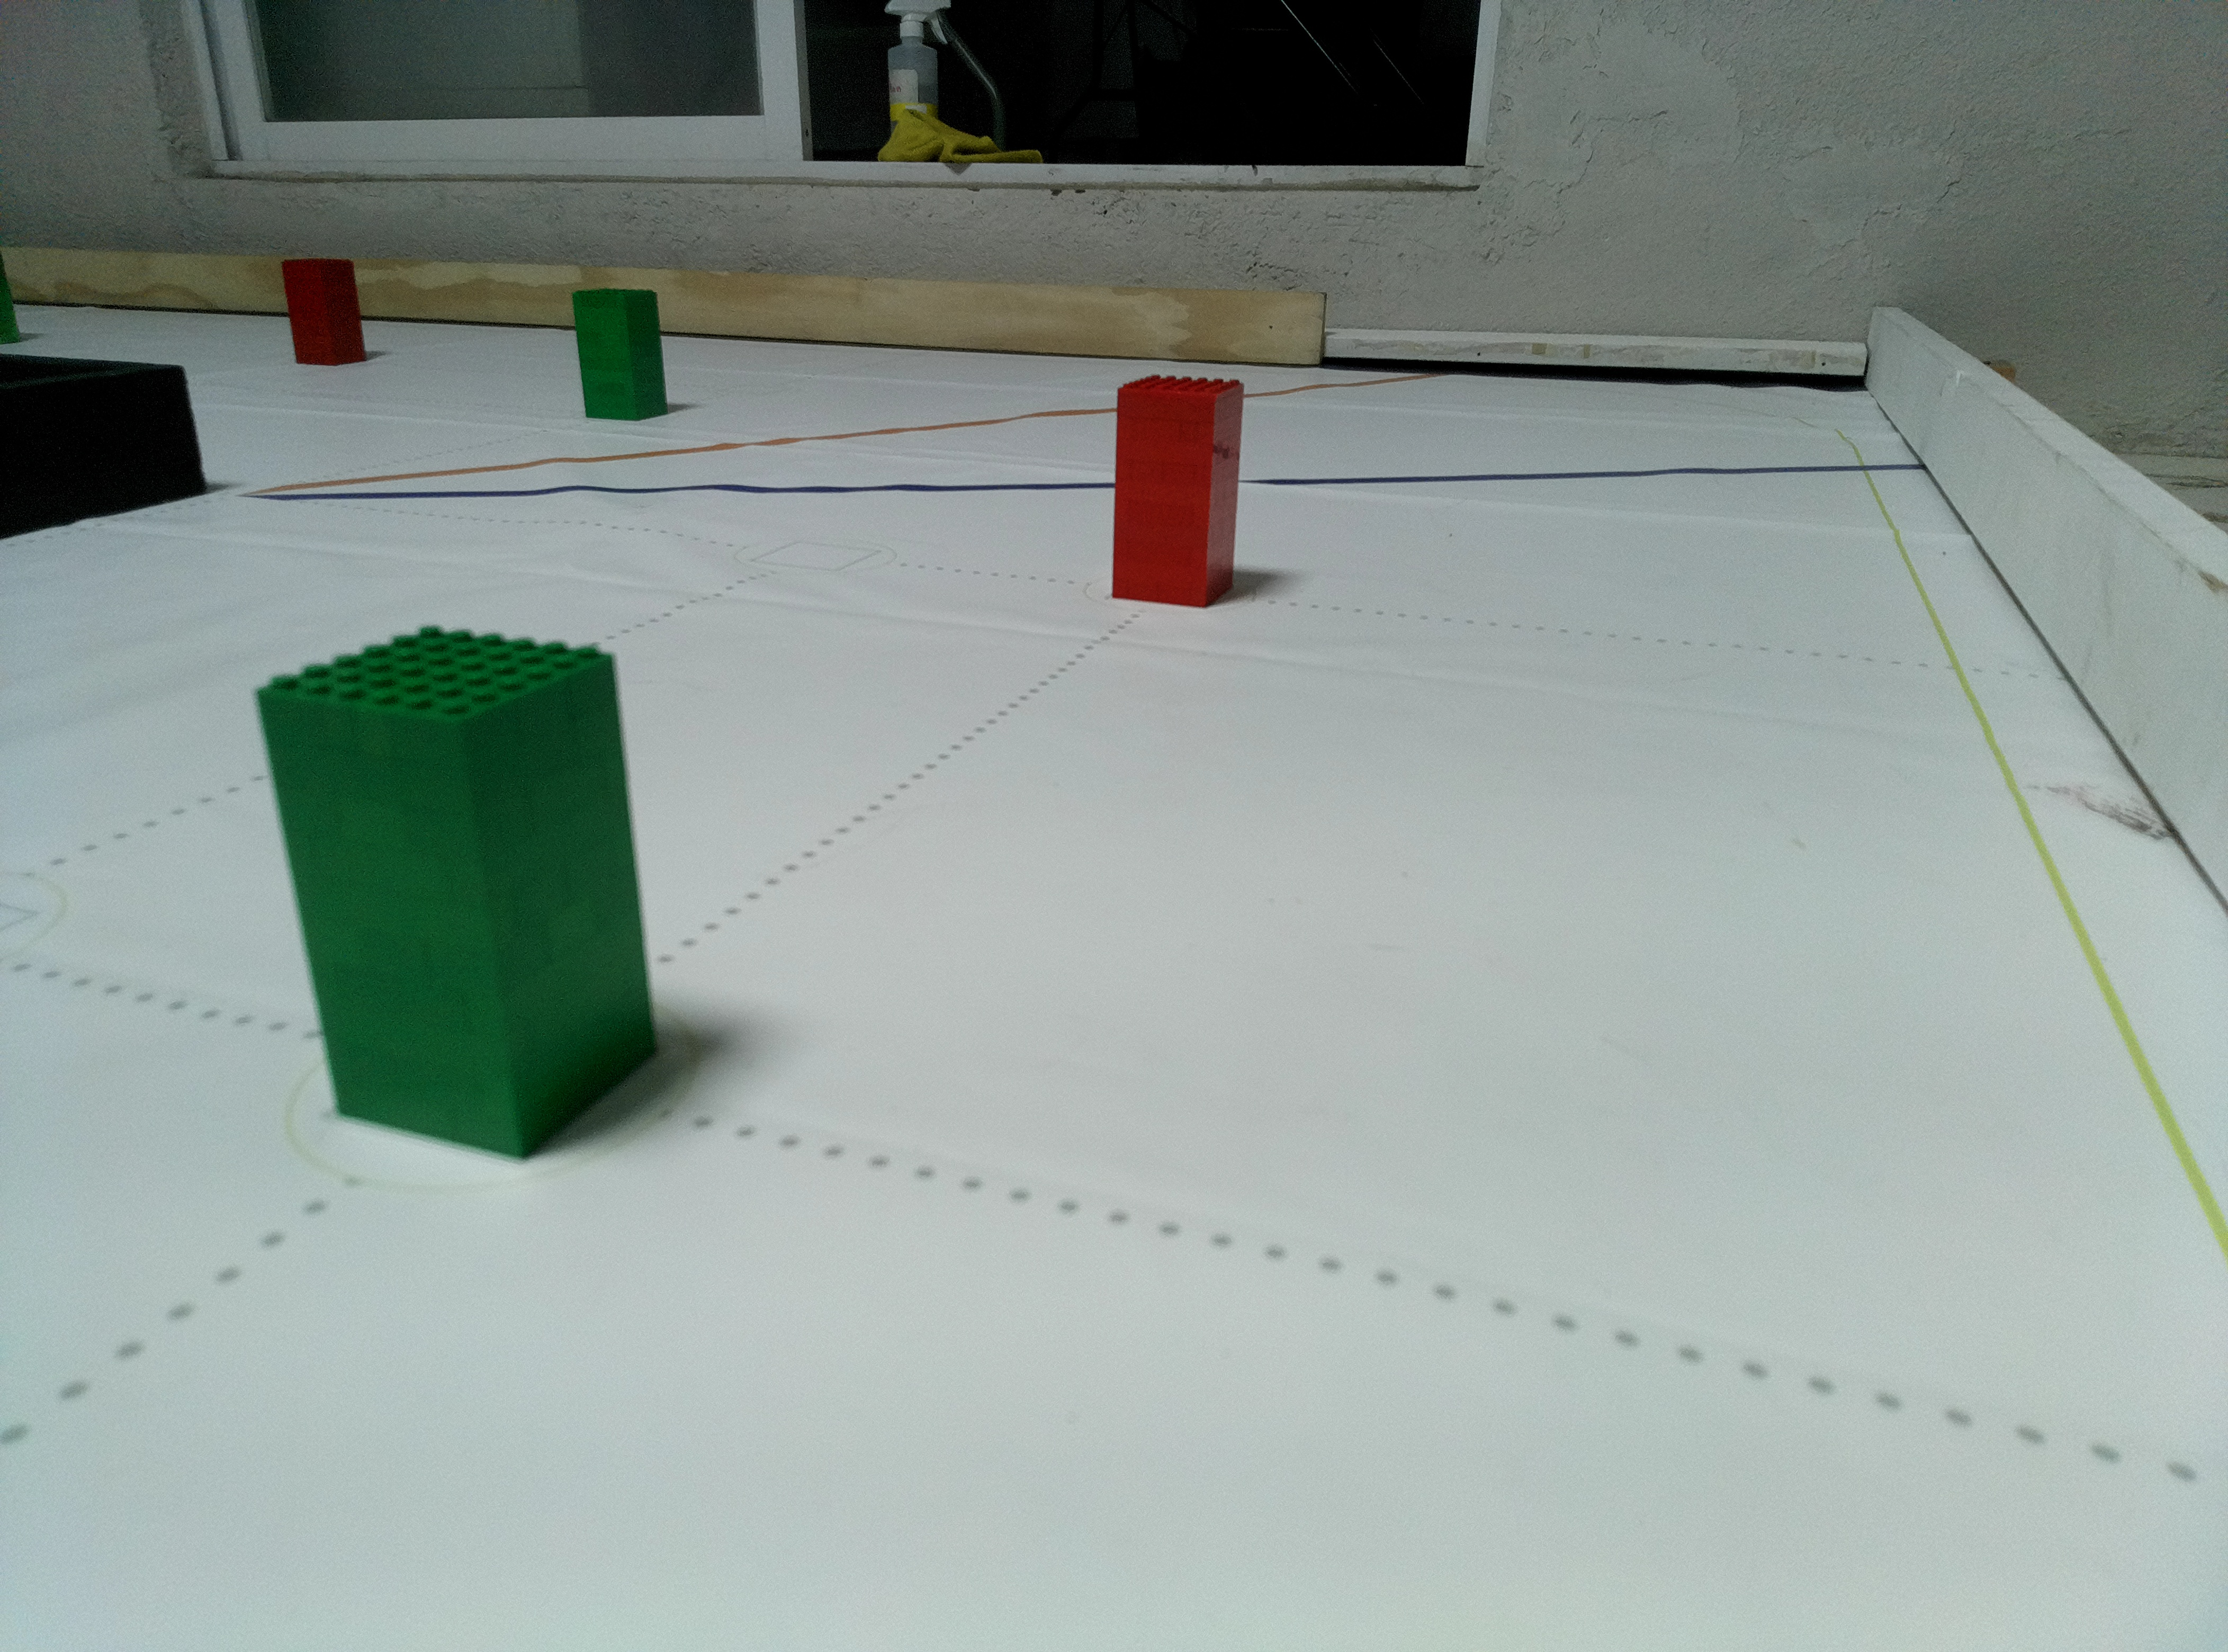greenbox: (250, 618, 663, 1163), (571, 285, 672, 422), (0, 246, 26, 347)
redbox: (1109, 371, 1248, 611), (279, 255, 371, 370)
